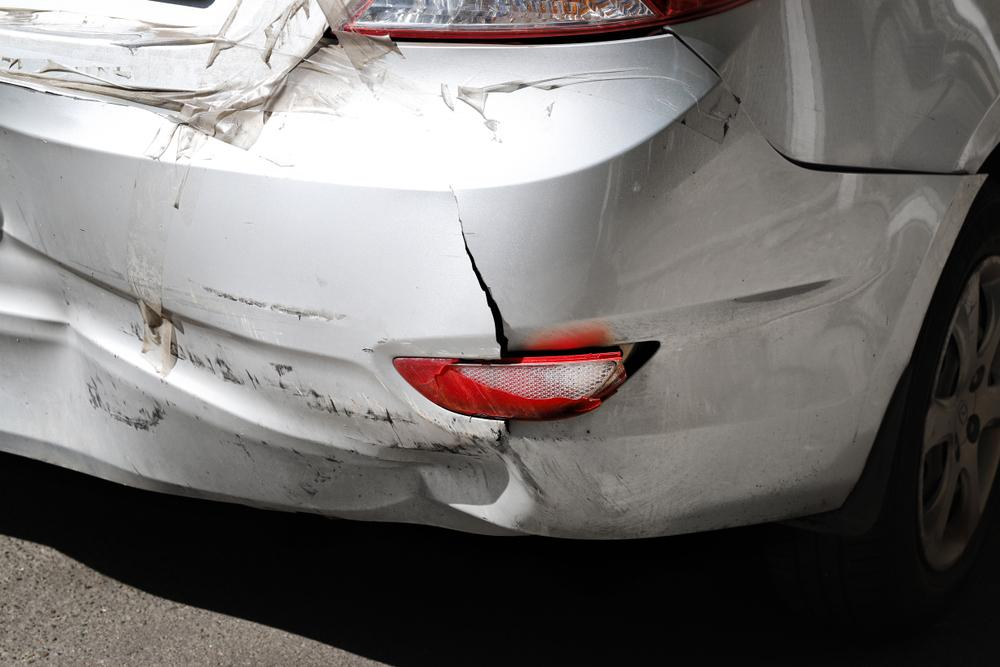crack: (449, 186, 510, 357)
dent: (289, 446, 528, 523), (14, 275, 89, 390)
scratch: (76, 276, 412, 433)
